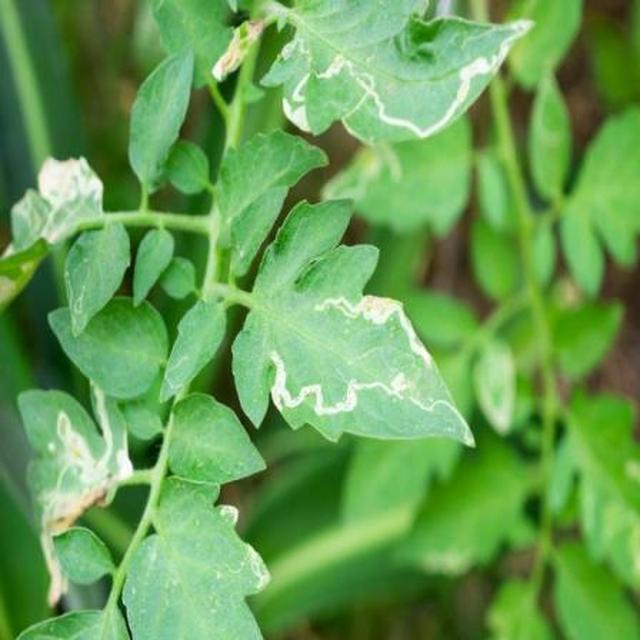Leaf Miner: (95, 108, 565, 631)
